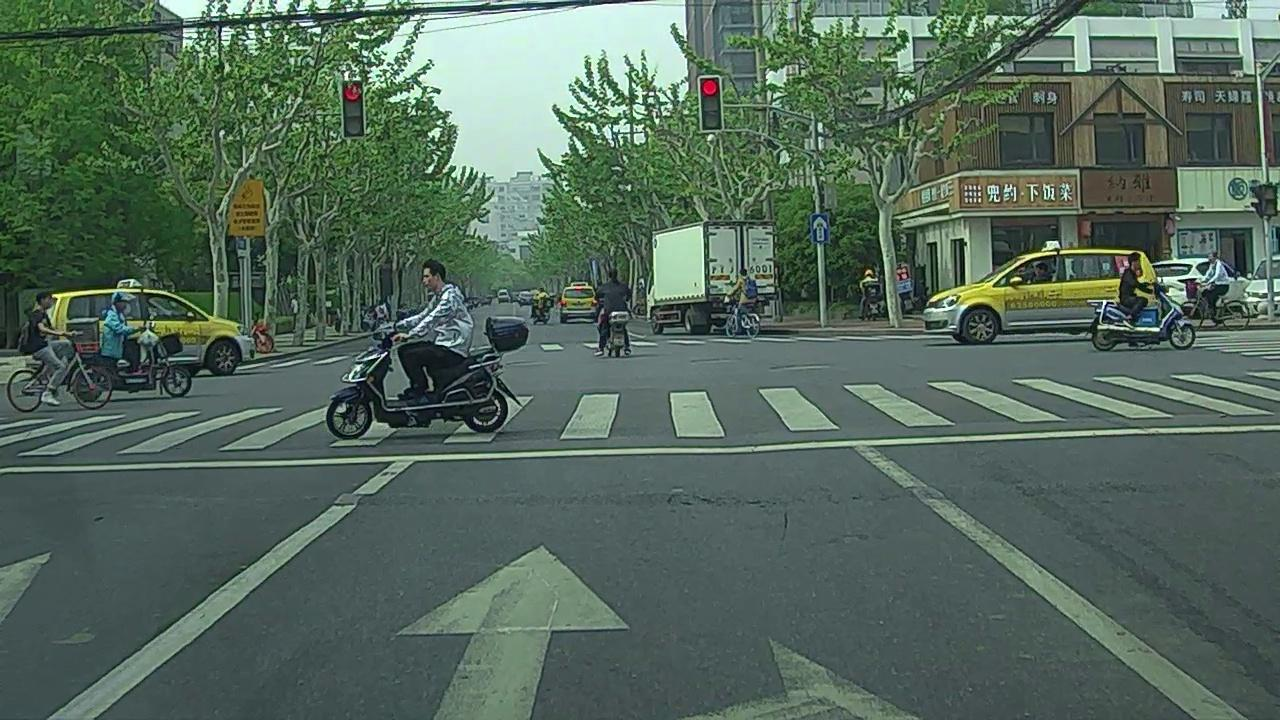traffic_light: (700, 76, 724, 132), (342, 80, 365, 138)
